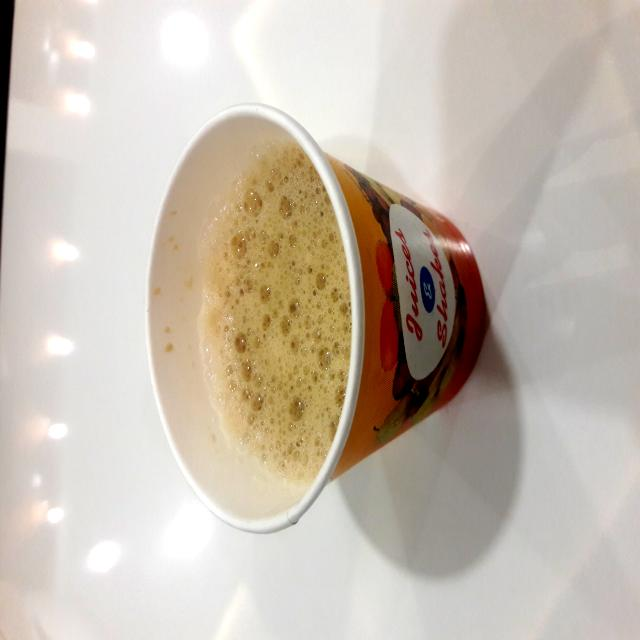Trash: (88, 174, 397, 640)
